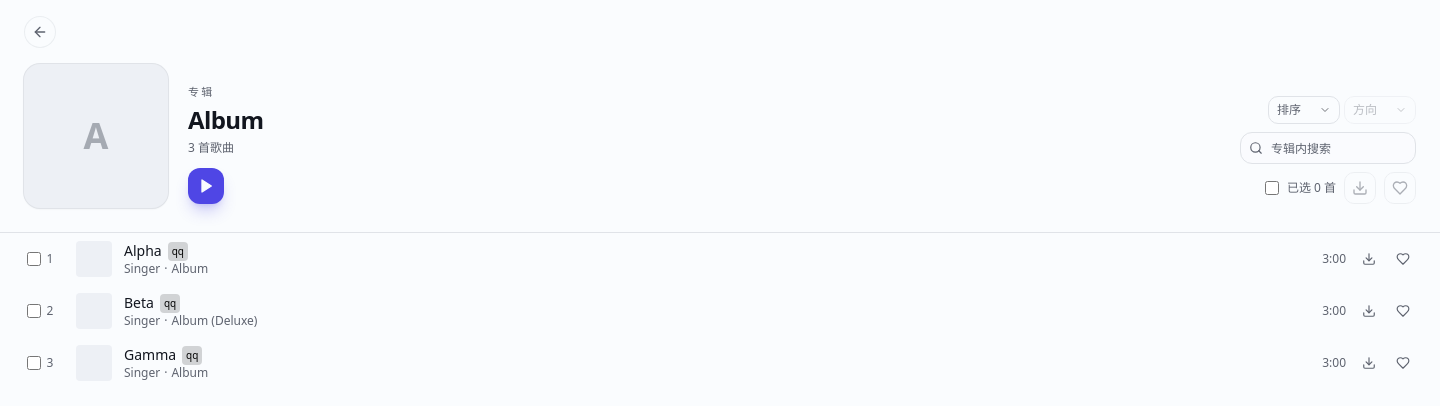
Test: 专辑内搜索 › 筛选裁剪隐藏选择，Esc 和清空按钮不恢复旧选择，无结果时禁用操作
Expected: the text "Alpha" is shown, [124, 241, 162, 261]
Click the checkbox named "全选". click: (1272, 188)
box: [1265, 181, 1279, 195]
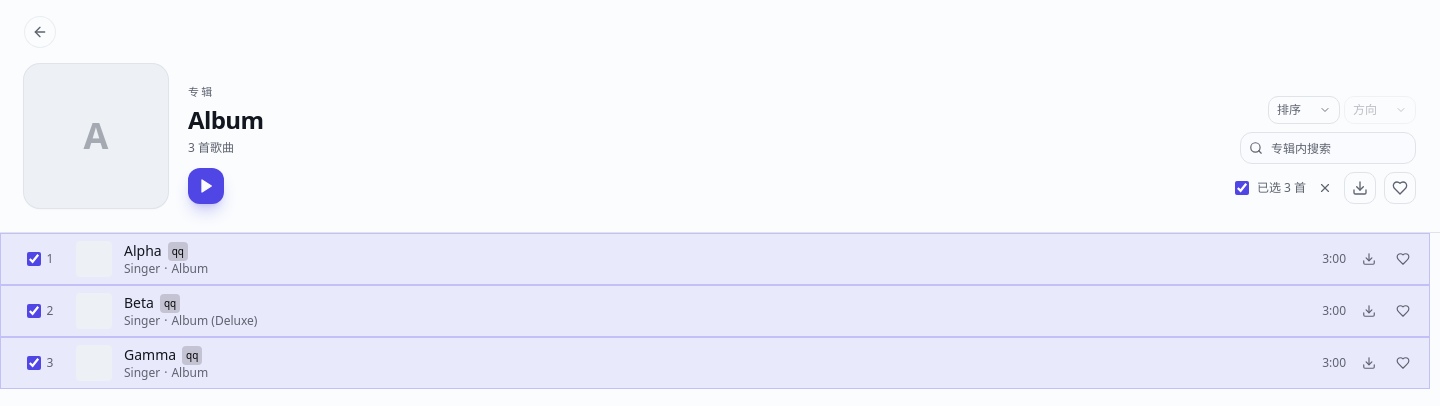
Type "beta" into the search field labelled "专辑内搜索". click: (1339, 148)
box: [1271, 133, 1407, 163]
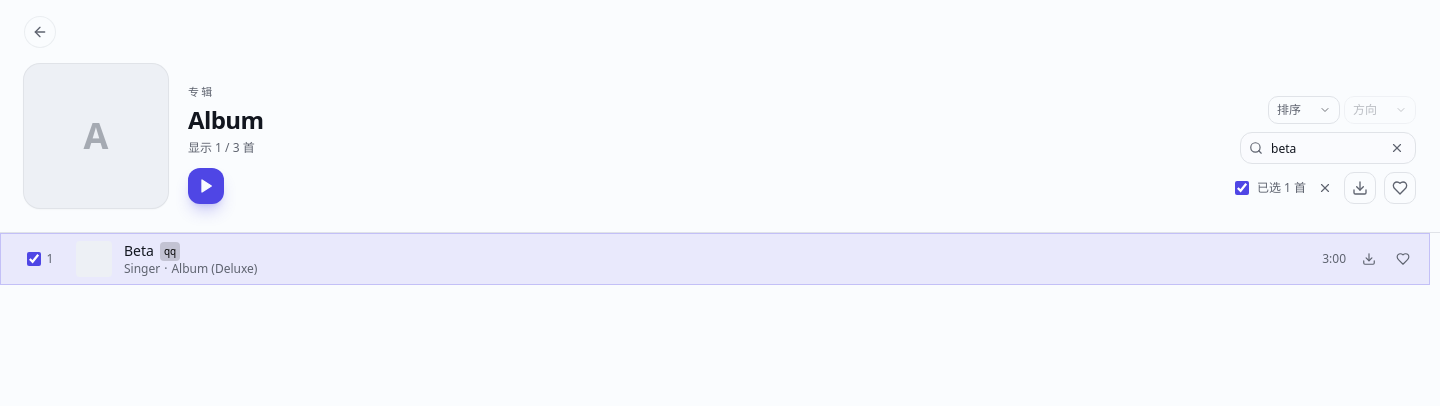
Now the text "已选 1 首" is shown, box [1257, 180, 1306, 196]
Press Escape in the search field named "专辑内搜索", box [1271, 133, 1379, 163]
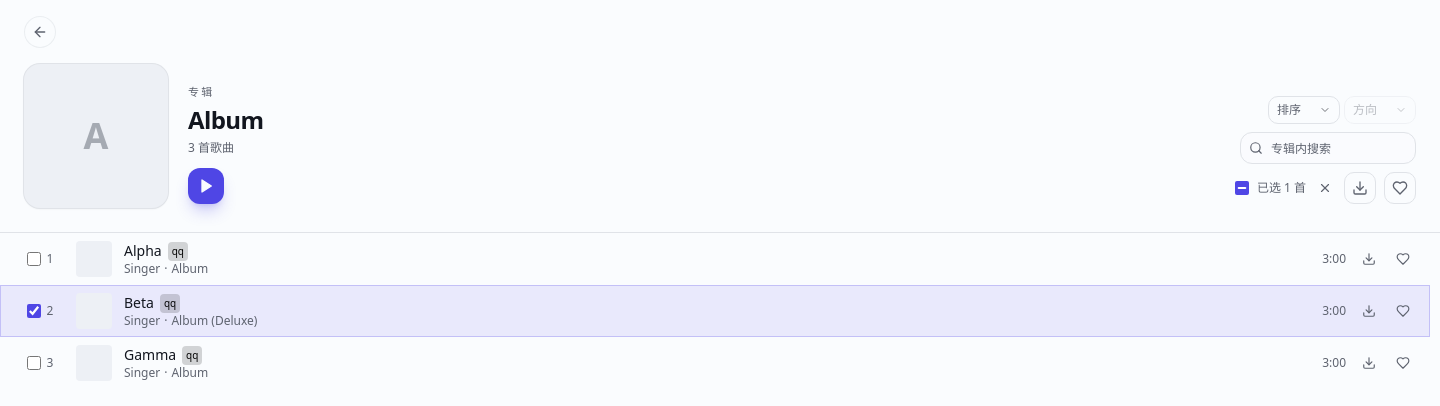
Now the checkbox named "选择 Beta" is checked, box [27, 304, 41, 318]
Now the search field labelled "专辑内搜索" is empty
Now the checkbox named "选择 Alpha" is not checked, box [27, 252, 41, 266]
Type "no-match" into the search field labelled "专辑内搜索". click: (1339, 148)
box: [1271, 133, 1407, 163]
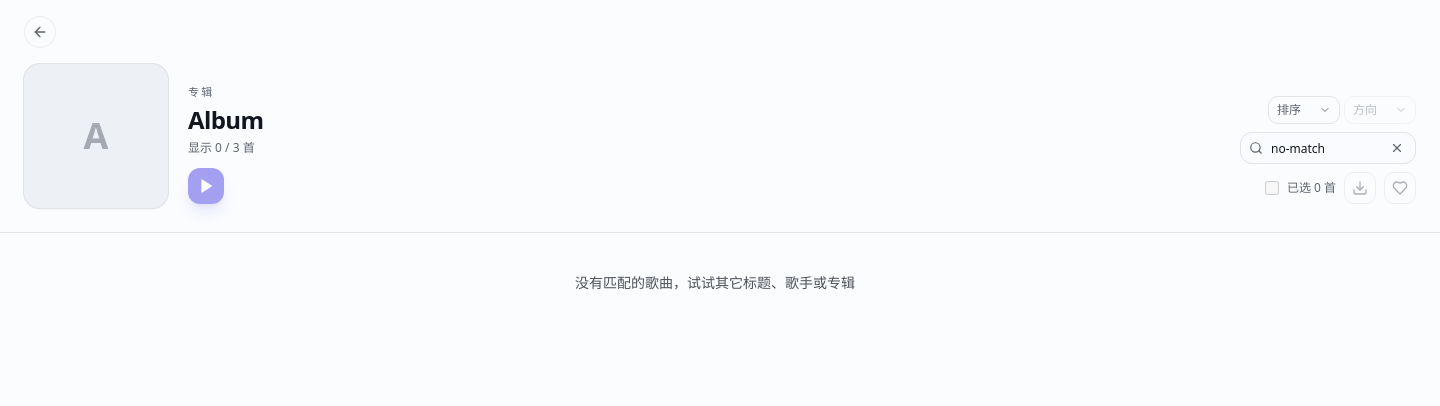
Now the text "没有匹配的歌曲，试试其它标题、歌手或专辑" is shown, box [575, 273, 855, 293]
Now the text "显示 0 / 3 首" is shown, box [188, 139, 255, 156]
Now the button named "播放全部" is disabled, box [188, 168, 224, 204]
Click the button named "清空搜索". click: (1397, 148)
box: [1387, 138, 1407, 158]
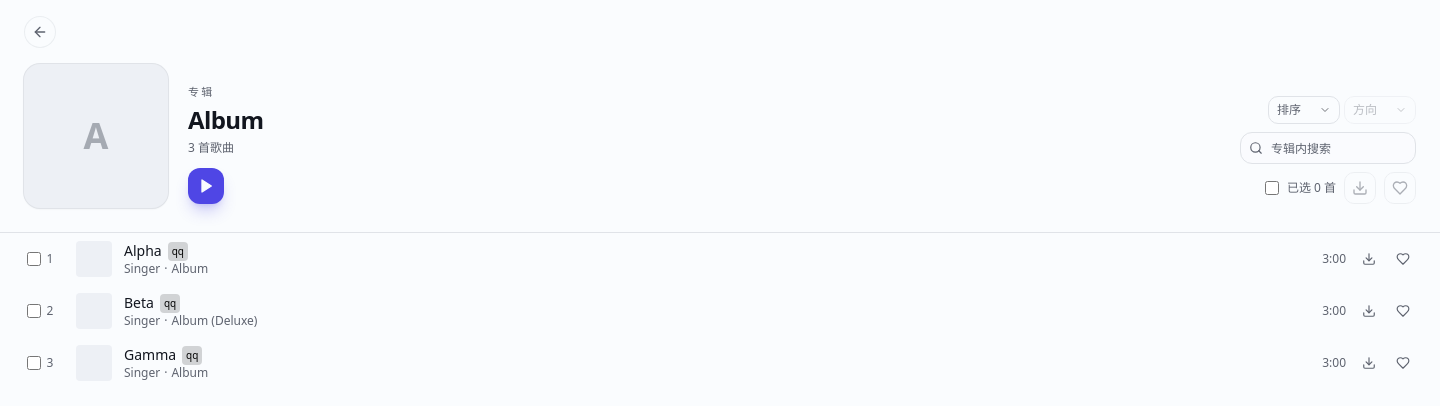
Now the text "已选 0 首" is shown, box [1287, 180, 1336, 196]
Now the search field labelled "专辑内搜索" is empty, box [1271, 133, 1407, 163]
Now the text "3 首歌曲" is shown, box [188, 139, 234, 156]
